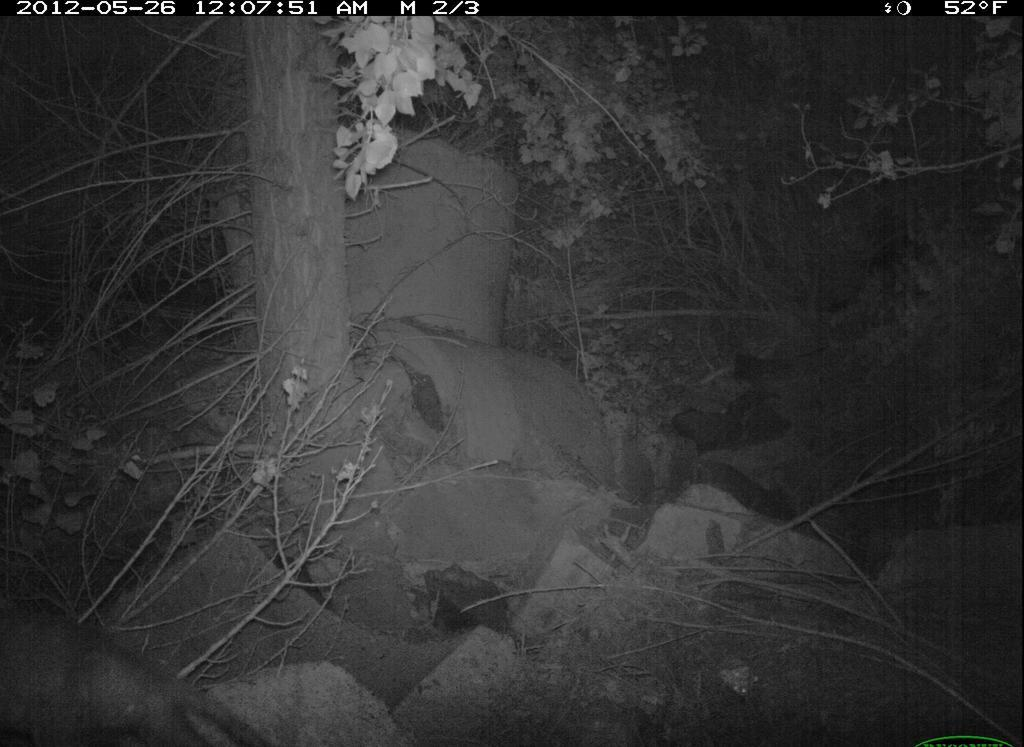opossum: (1, 599, 296, 747)
